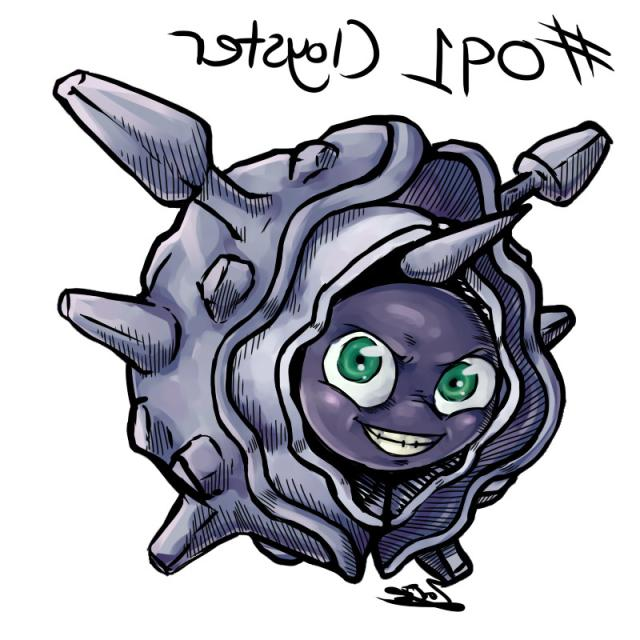Cloyster: (67, 99, 616, 592)
